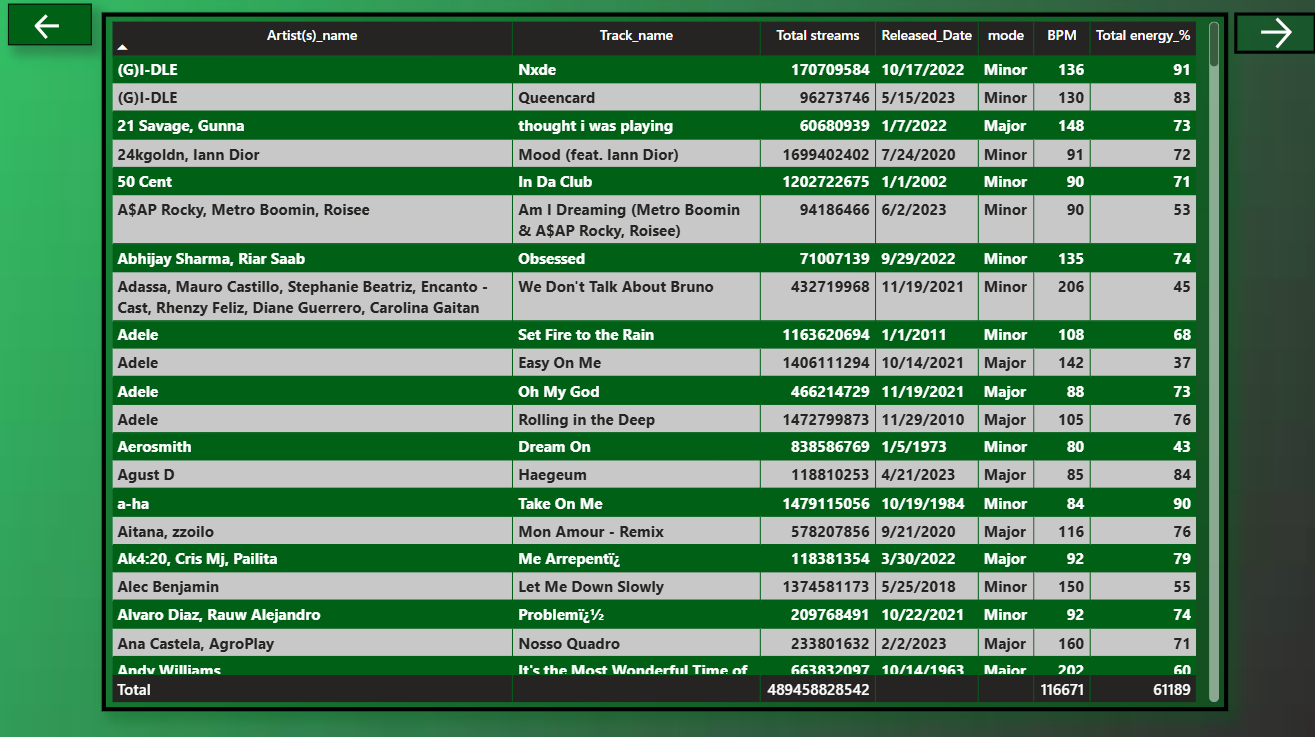

This screenshot's page, from the dashboard's own definition file:
{"tool":"powerbi","page":{"name":"Details","canvas":[1280,720],"ordinal":1},"visuals":[{"type":"tableEx","fields":{"Values":["spotify-2023.artist(s)_name","spotify-2023.track_name","spotify-2023.streams","spotify-2023.Released_Date","spotify-2023.mode","spotify-2023.bpm","spotify-2023.energy_%"]},"box":[100.1,16.9,1087,674.4],"z":0},{"type":"actionButton","box":[9.7,8.4,80.8,39.8],"z":1000},{"type":"actionButton","box":[1193.2,16.9,79.6,39.8],"z":2000}]}

Visuals, with their boxes on the page's 1280x720 design canvas (x1, y1, x2, y2). These are canvas units, not pixel positions in the 1315x737 screenshot, which may show the page scaled, cropped or inside an application window:
tableEx - spotify-2023.artist(s)_name x spotify-2023.track_name: [100, 17, 1187, 691]
actionButton: [10, 8, 90, 48]
actionButton: [1193, 17, 1273, 57]
